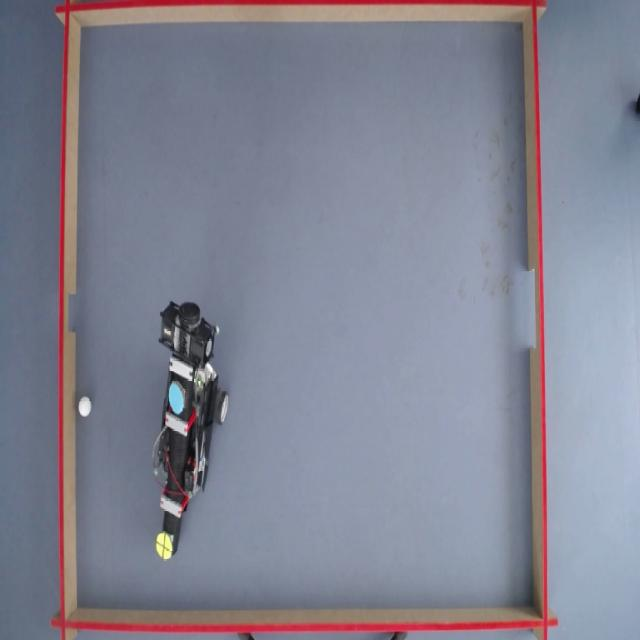robot: (148, 300, 228, 558)
robot-front: (154, 530, 175, 562)
robot-rear: (166, 385, 185, 413)
white: (79, 397, 92, 418)
